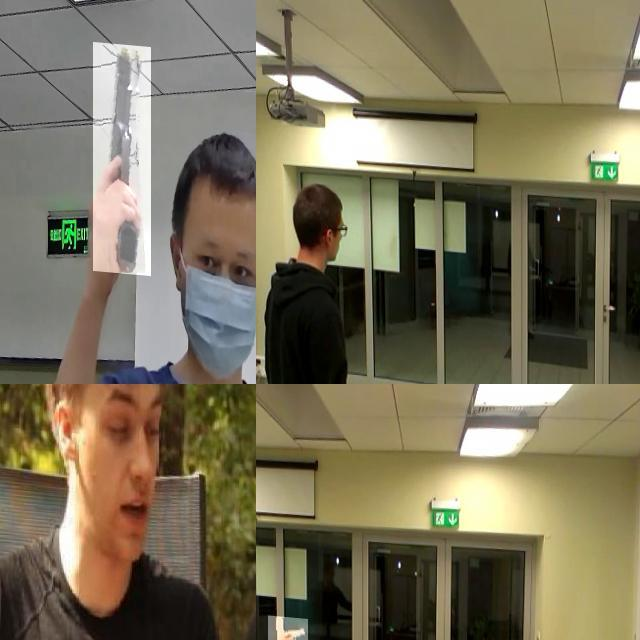gun-knife-thesis - v11 Yolov5 augmented: (93, 39, 151, 272), (268, 610, 307, 640)
